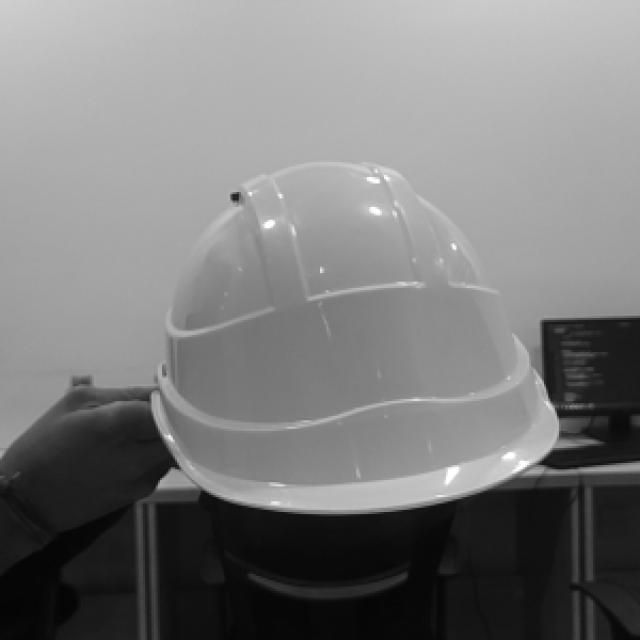safety_helmet: (152, 162, 561, 519)
